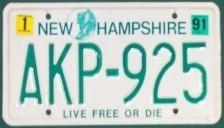2: (151, 41, 180, 105)
5: (181, 40, 209, 105)
9: (120, 42, 150, 104)
A: (18, 42, 44, 106)
K: (46, 41, 75, 106)
P: (77, 41, 104, 106)
